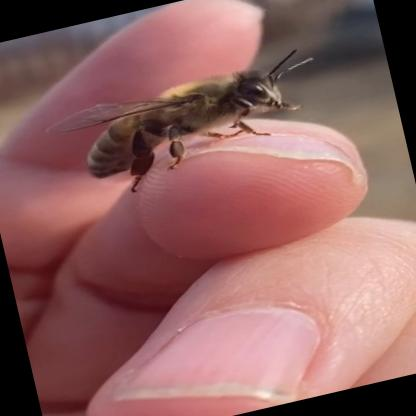bee: (32, 35, 368, 223)
